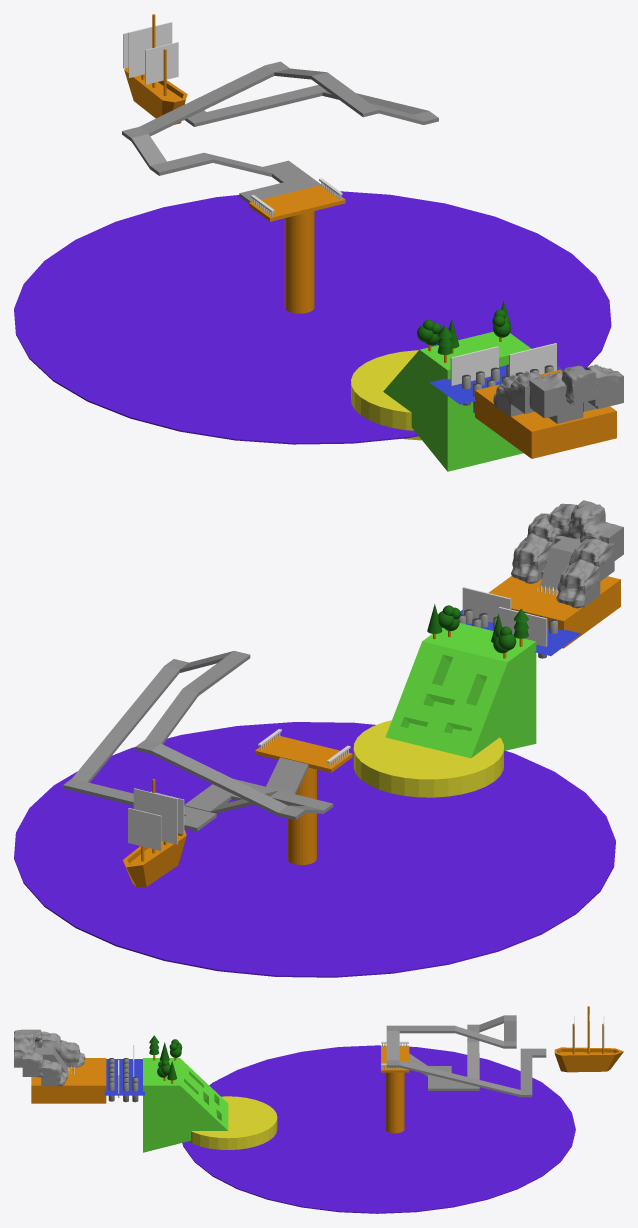
File: girlfriend.glb
3 views of the same model, one above another, from view 1: azimuth 30°, elevation 25°; view 2: azimuth 150°, elevation 25°; view 3: azimuth 270°, elevation 25° (orthographic). The views are drawn at different scales.
Visible parts, largest first — view 1: Cylinder.020, Cube.019, Cube.013, Cube.012, Cylinder.019, Cylinder.021, Cube.016, Cylinder.042, Cube.002, Cube.020, Cube.015, Cube.022 (+5 smaller); view 2: Cylinder.020, Cube.013, Cube.019, Cylinder.019, Cube.012, Cylinder.021, Cylinder.042, Cube.016, Cube.010, Cube.009, Cube.020, Cube.021 (+7 smaller); view 3: Cylinder.020, Cube.013, Cube.019, Cylinder.019, Cube.012, Cylinder.042, Cylinder.021, Plane, Cube.009, Cube.010, Cube.008, Cube.016 (+3 smaller).
Part boxes in pixels (x1,y1,x2,y2): Cylinder.020: (14, 191, 611, 444); Cube.019: (122, 61, 438, 203); Cube.013: (383, 331, 531, 471); Cube.012: (475, 370, 616, 458); Cylinder.019: (351, 350, 421, 440); Cylinder.021: (284, 211, 314, 313); Cube.016: (248, 184, 345, 221); Cylinder.042: (124, 67, 187, 124); Cube.002: (529, 371, 570, 418); Cube.020: (128, 22, 172, 77); Cube.015: (450, 346, 498, 385); Cube.022: (145, 42, 178, 84); Cylinder.020: (14, 722, 615, 977); Cube.013: (385, 623, 536, 758); Cube.019: (63, 651, 333, 831); Cylinder.019: (353, 720, 503, 797); Cube.012: (488, 576, 620, 648); Cylinder.021: (287, 767, 316, 864); Cylinder.042: (123, 830, 186, 887); Cube.016: (255, 735, 352, 772); Cube.010: (556, 559, 600, 608); Cube.009: (511, 533, 552, 583); Cube.020: (133, 788, 177, 844); Cube.021: (128, 808, 161, 850); Cylinder.020: (182, 1045, 575, 1213); Cube.013: (143, 1058, 228, 1152); Cube.019: (386, 1015, 546, 1097); Cylinder.019: (188, 1096, 277, 1149); Cube.012: (31, 1058, 106, 1103); Cylinder.042: (554, 1047, 623, 1072); Cylinder.021: (385, 1072, 404, 1133); Plane: (104, 1059, 144, 1095); Cube.009: (41, 1059, 67, 1086); Cube.010: (60, 1040, 85, 1067); Cube.008: (22, 1052, 43, 1077); Cube.016: (381, 1045, 409, 1072).
Bounding box in the file's own units: 40 × 15.08 × 61.53.
